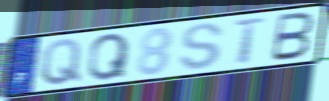8: (135, 25, 176, 78)
B: (268, 10, 317, 63)
Q: (87, 31, 132, 83), (39, 37, 84, 87)
S: (178, 22, 226, 72)
T: (231, 16, 269, 66)
